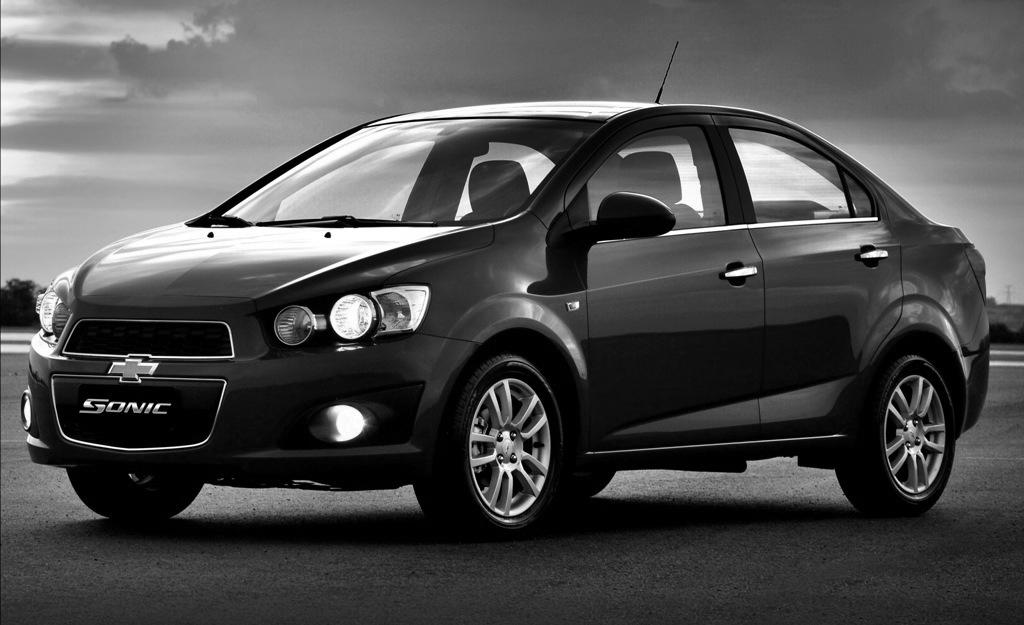car: (26, 39, 990, 549)
